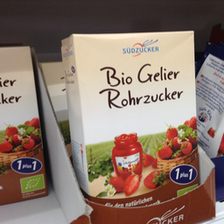sugar: (61, 29, 202, 209)
